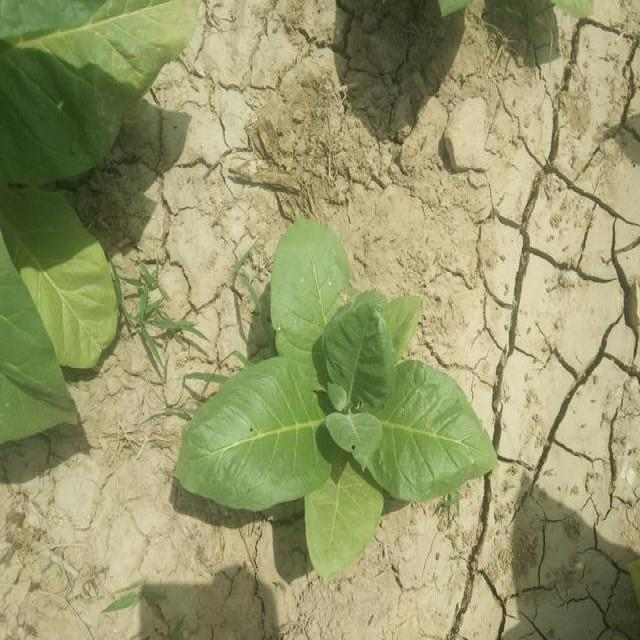crop: (201, 228, 488, 569), (0, 0, 198, 171), (3, 180, 118, 426)
